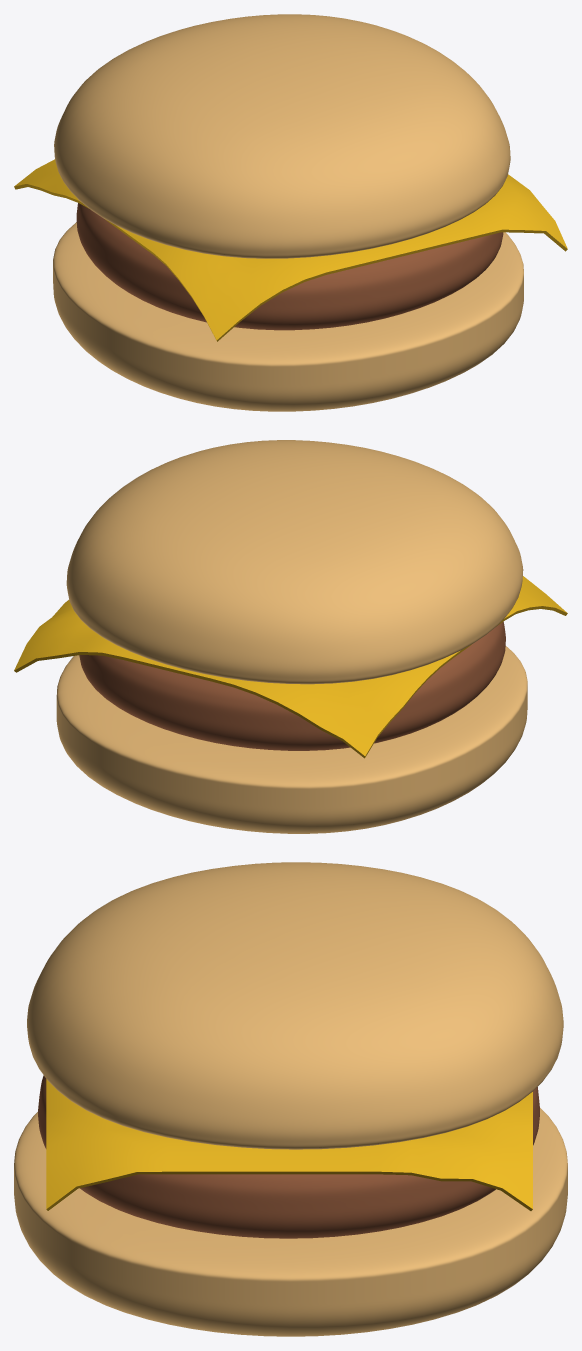
The model's file is hamburger.glb.
3 renders of one model, top to bottom at view 1: azimuth 30°, elevation 25°; view 2: azimuth 150°, elevation 25°; view 3: azimuth 270°, elevation 25°, orthographic. The views are drawn at different scales.
Parts seen in each view (by area): view 1: Cube.002, Cube, Cube.001, Plane; view 2: Cube.002, Cube, Cube.001, Plane; view 3: Cube.002, Cube, Plane, Cube.001.
Part boxes in pixels (x1,y1,x2,y2): Cube.002: [54, 14, 510, 258]; Cube: [53, 222, 523, 411]; Cube.001: [76, 203, 503, 330]; Plane: [14, 159, 567, 341]; Cube.002: [66, 440, 523, 684]; Cube: [56, 646, 527, 833]; Cube.001: [79, 621, 505, 750]; Plane: [14, 576, 567, 758]; Cube.002: [27, 862, 563, 1149]; Cube: [14, 1108, 567, 1336]; Plane: [46, 1079, 532, 1210]; Cube.001: [38, 1075, 539, 1238].
Size of the model in its own units: 9.35 by 6.27 by 9.35.
